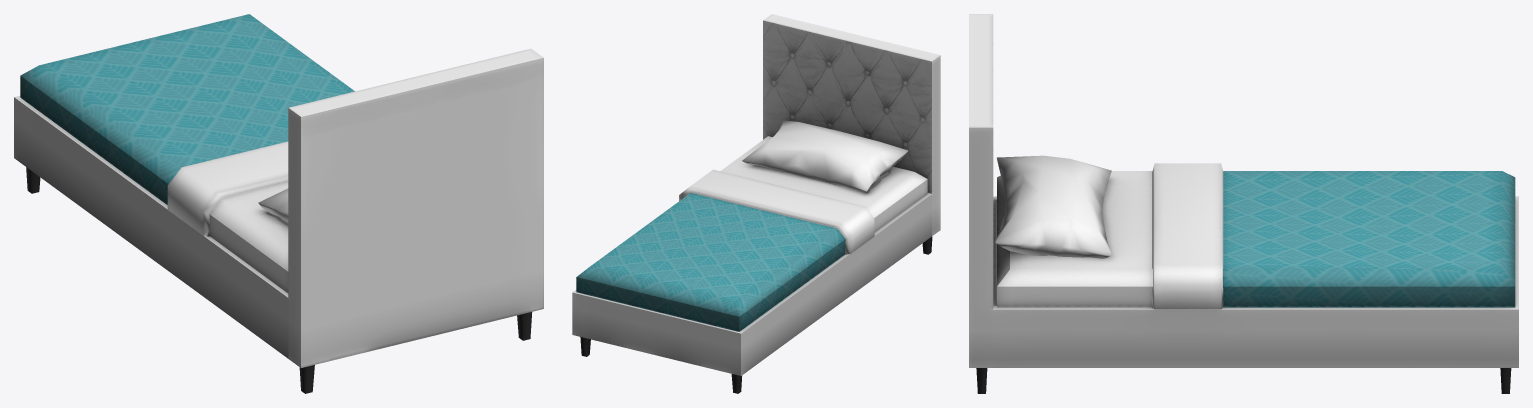
Rendered from FUR0210025.fbx.
The picture shows the model from 3 angles, left to right: view 1: azimuth 30°, elevation 25°; view 2: azimuth 150°, elevation 25°; view 3: azimuth 270°, elevation 25°; orthographic projection. The views are drawn at different scales.
Parts seen in each view (by area): view 1: smFUR0210025; view 2: smFUR0210025; view 3: smFUR0210025.
Part boxes in pixels (x1,y1,x2,y2): smFUR0210025: [14, 14, 543, 393]; smFUR0210025: [572, 14, 940, 393]; smFUR0210025: [969, 14, 1518, 393].
Bounding box in the file's own units: 125 × 138 × 253.
Materials: 1 (1 with a texture image).
